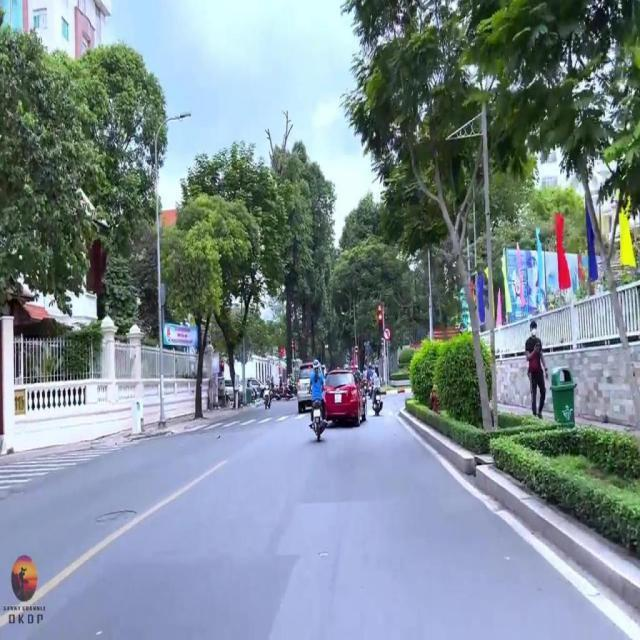106-cam-oto-tai: (354, 345, 358, 353)
123a-cam-re-trai: (383, 328, 391, 340)
